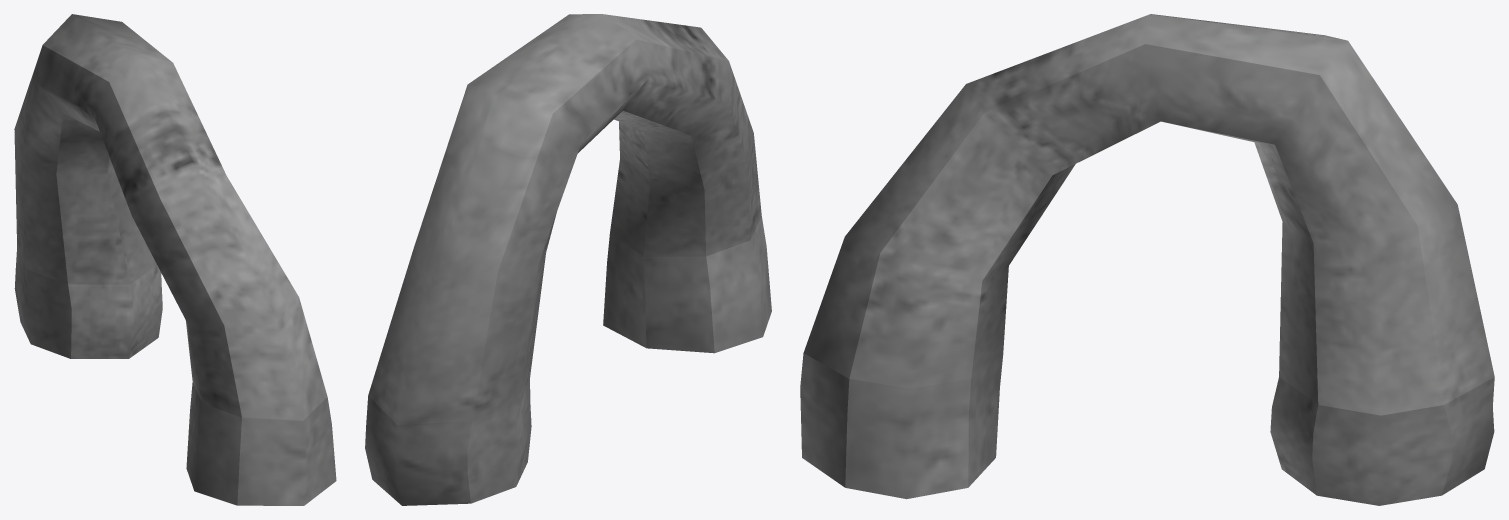
File: Curve_Rock.fbx
3 views of the same model, side by side, from view 1: azimuth 30°, elevation 25°; view 2: azimuth 150°, elevation 25°; view 3: azimuth 270°, elevation 25° (orthographic). The views are drawn at different scales.
Parts seen in each view (by area): view 1: Curve_Formation; view 2: Curve_Formation; view 3: Curve_Formation.
Boxes of the visible parts, box(x1,y1,x2,y2) form: Curve_Formation: box(14, 14, 336, 505); Curve_Formation: box(365, 14, 771, 505); Curve_Formation: box(800, 14, 1494, 505).
Bounding box in the file's own units: 6219 × 12352 × 18093.
